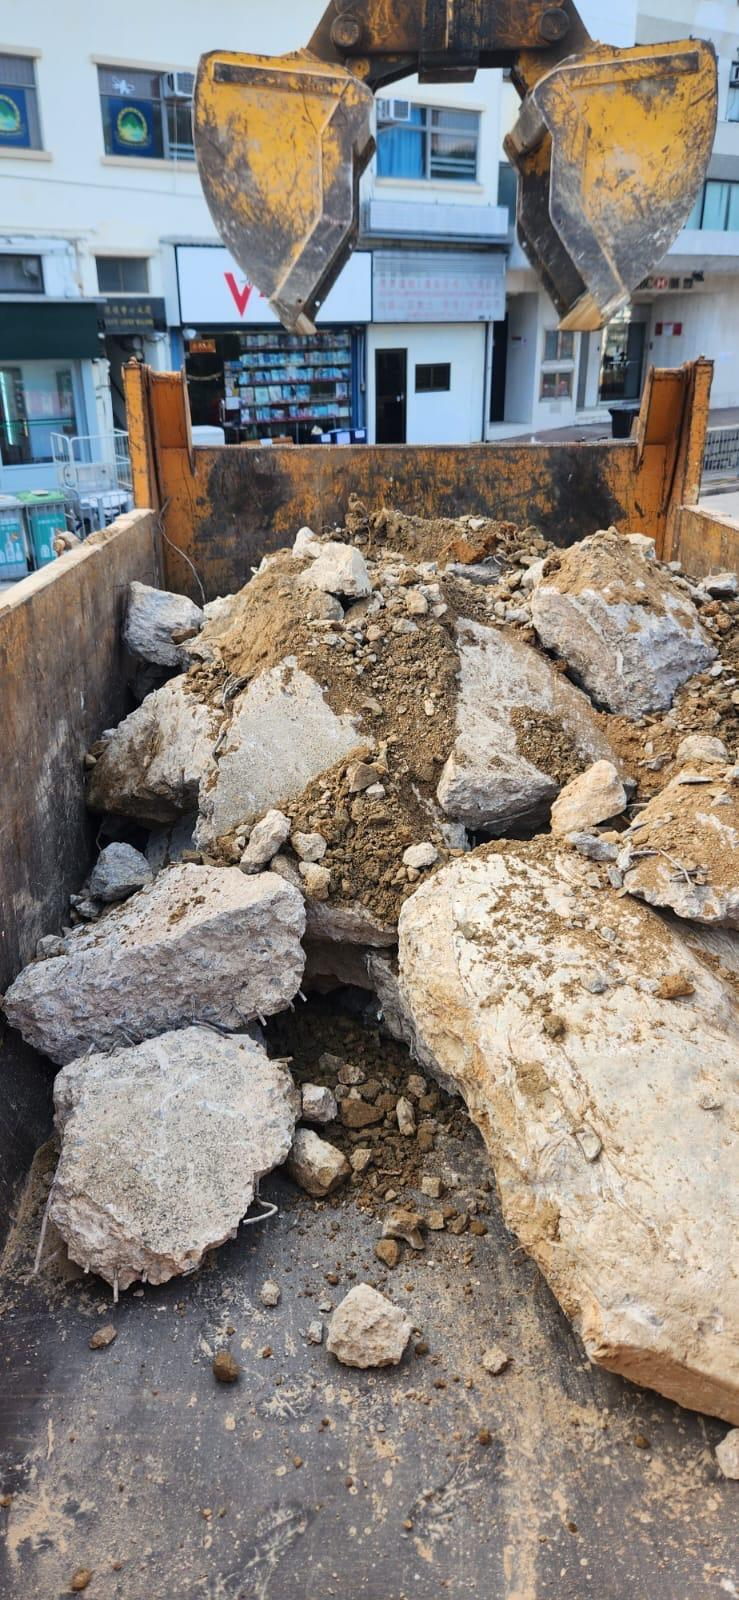dry: (55, 530, 739, 1422)
